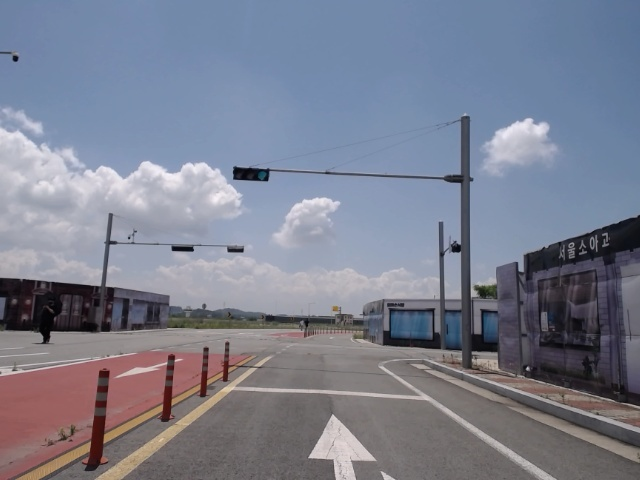green_3: (233, 168, 269, 181)
